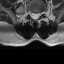CCS_normal: (33, 10, 37, 21)
LFS_normal: (40, 9, 43, 17)
LLS_normal: (37, 10, 40, 20)
RFS_normal: (28, 6, 30, 18)
RLS_normal: (30, 9, 33, 19)
